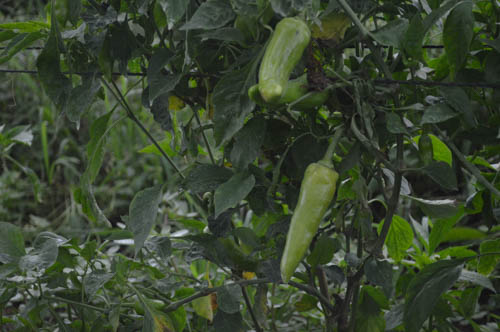ChiliPepper: (279, 157, 343, 284), (252, 15, 314, 110), (244, 75, 335, 114)
